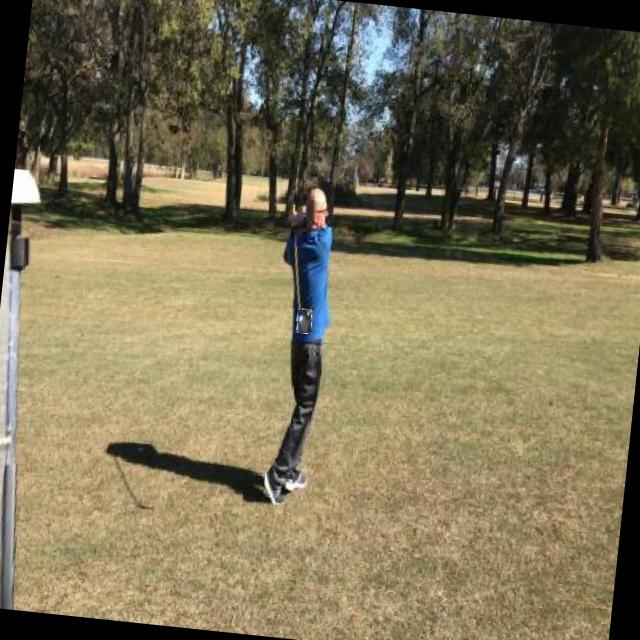club head: (295, 308, 313, 334)
